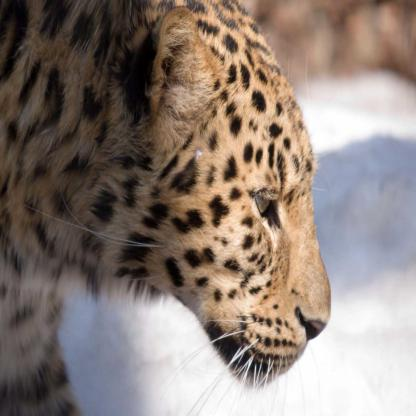leopard: (132, 4, 338, 394)
